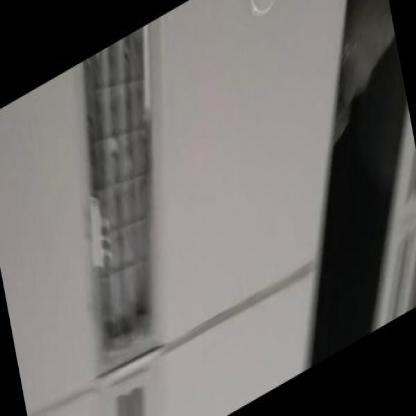light_off: (31, 0, 224, 393)
